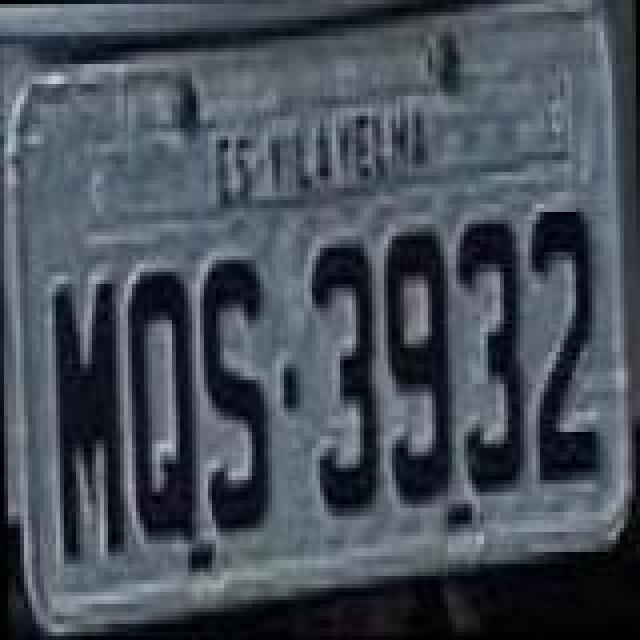2: (526, 208, 598, 488)
3: (308, 238, 380, 518), (454, 220, 526, 500)
9: (378, 224, 450, 504)
M: (52, 278, 124, 570)
Q: (128, 266, 200, 546)
S: (200, 250, 272, 542)
